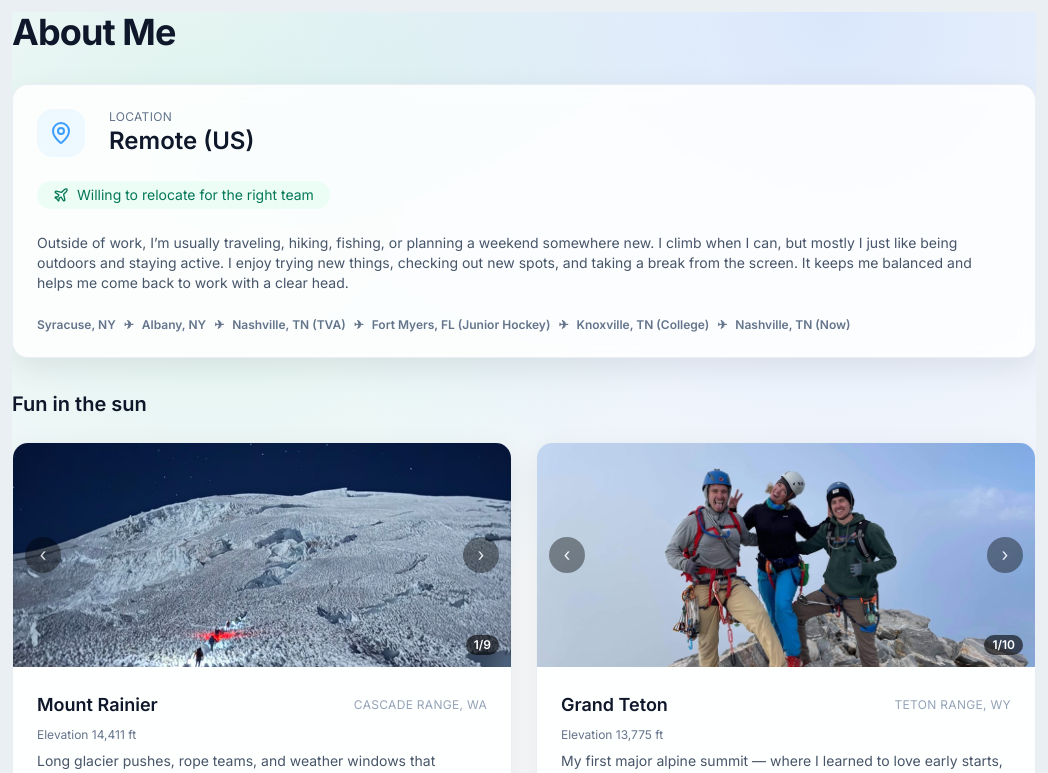
Test: AboutMe page › wraps to the last photo when selecting previous from the first
Click the button named "Previous Mount Rainier photo".
click(43, 555)  # box [25,537,61,573]
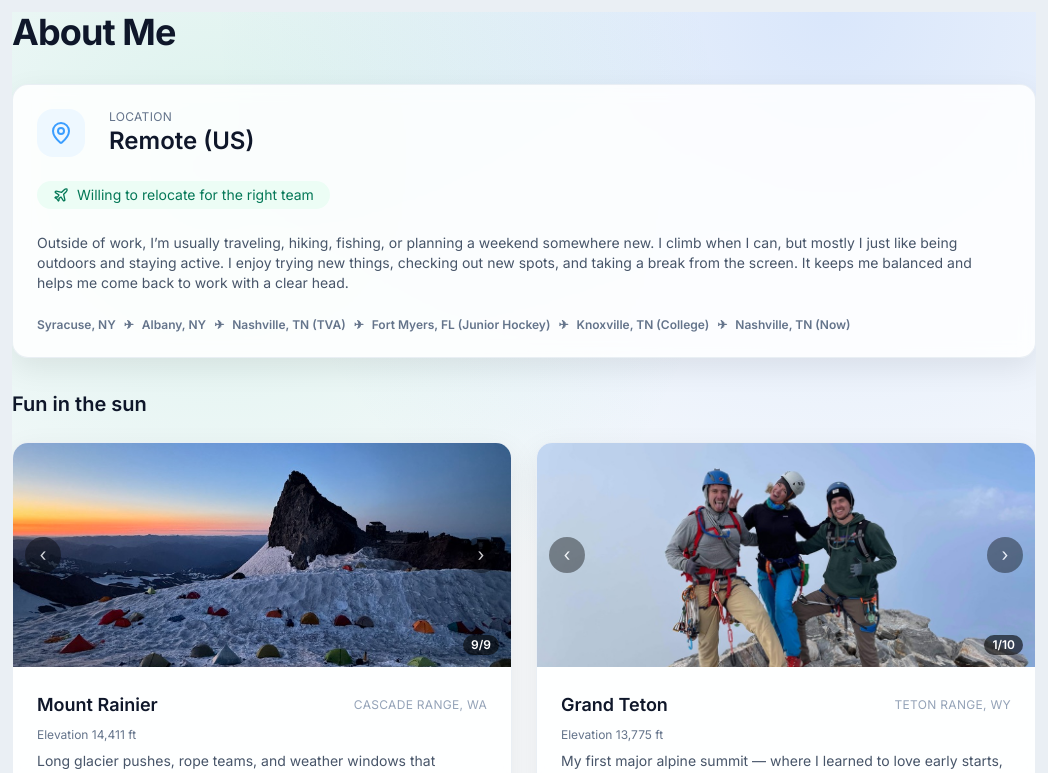
Check: the picture with alt text "Mount Rainier trip photo 9" is shown, box [13,443,511,667]
